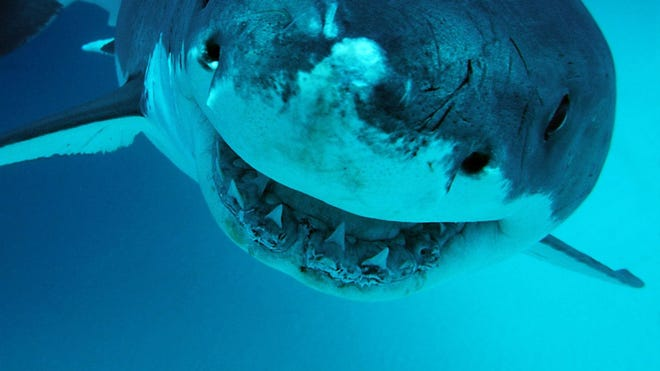shark: (1, 1, 645, 301)
